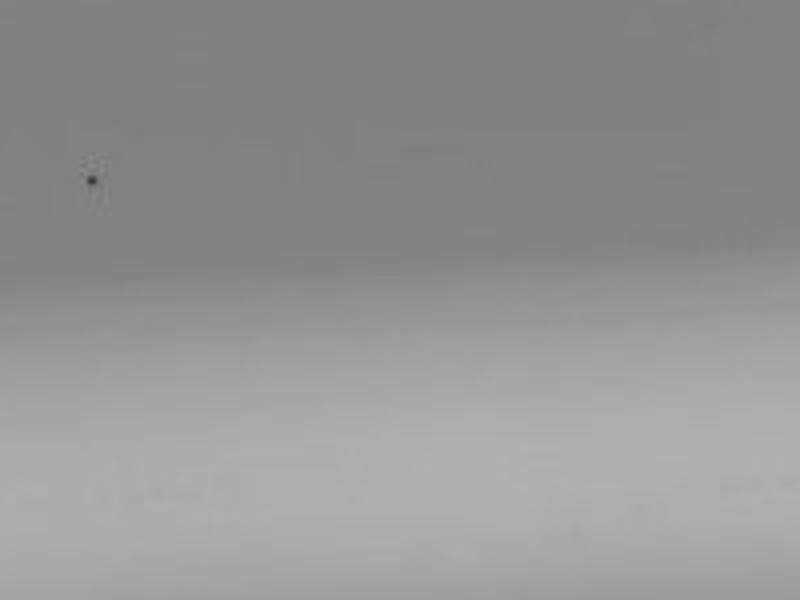defect: (84, 172, 101, 189)
